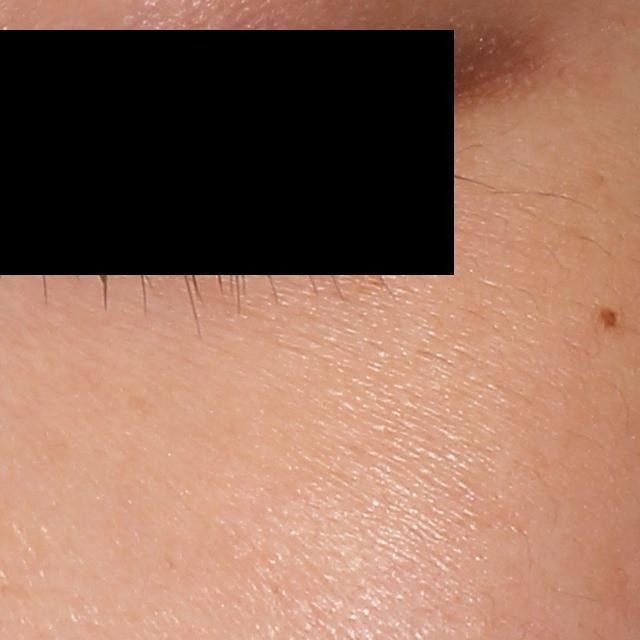nevus: (596, 304, 618, 335)
